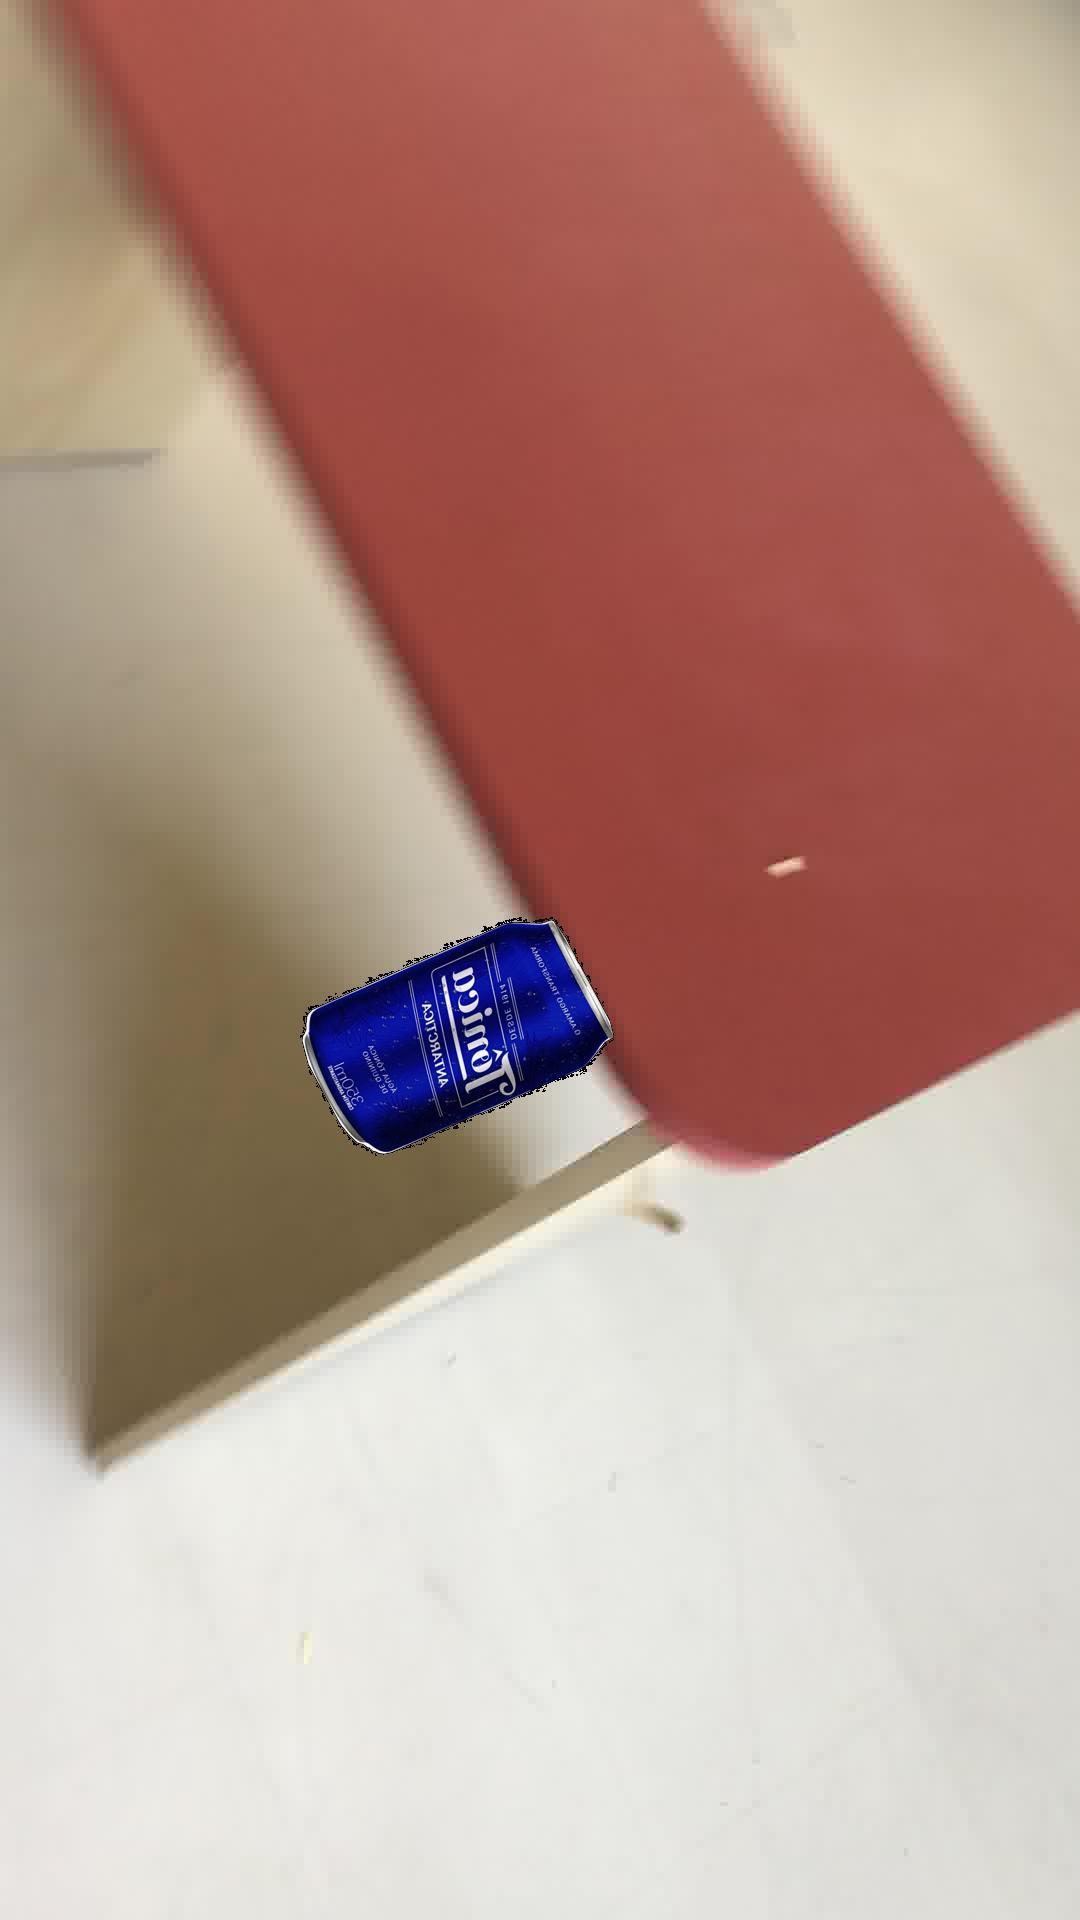tonic: (298, 916, 612, 1154)
